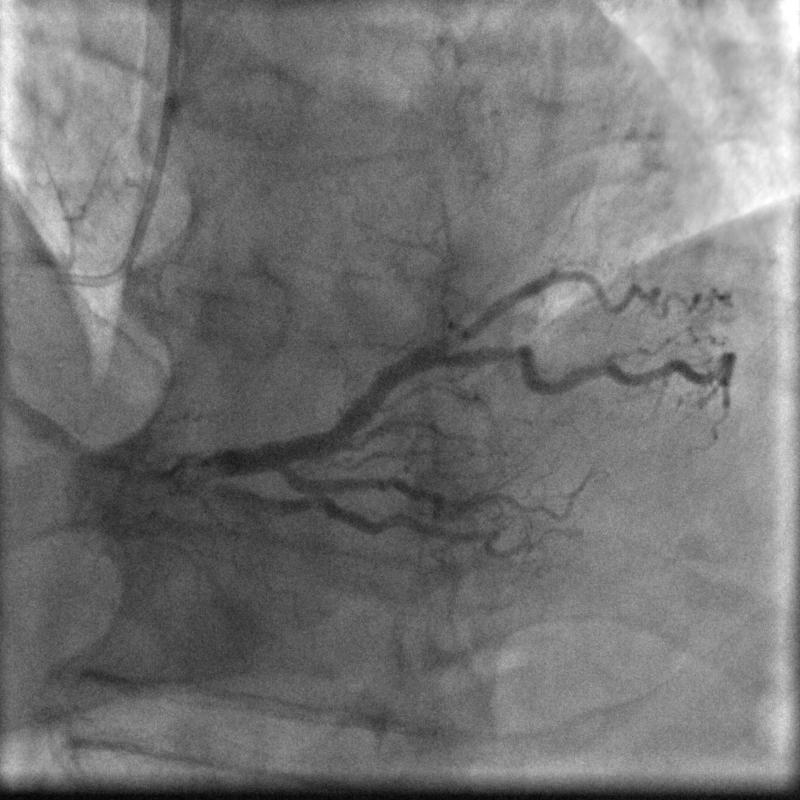Stenosis: (473, 340, 533, 366)
